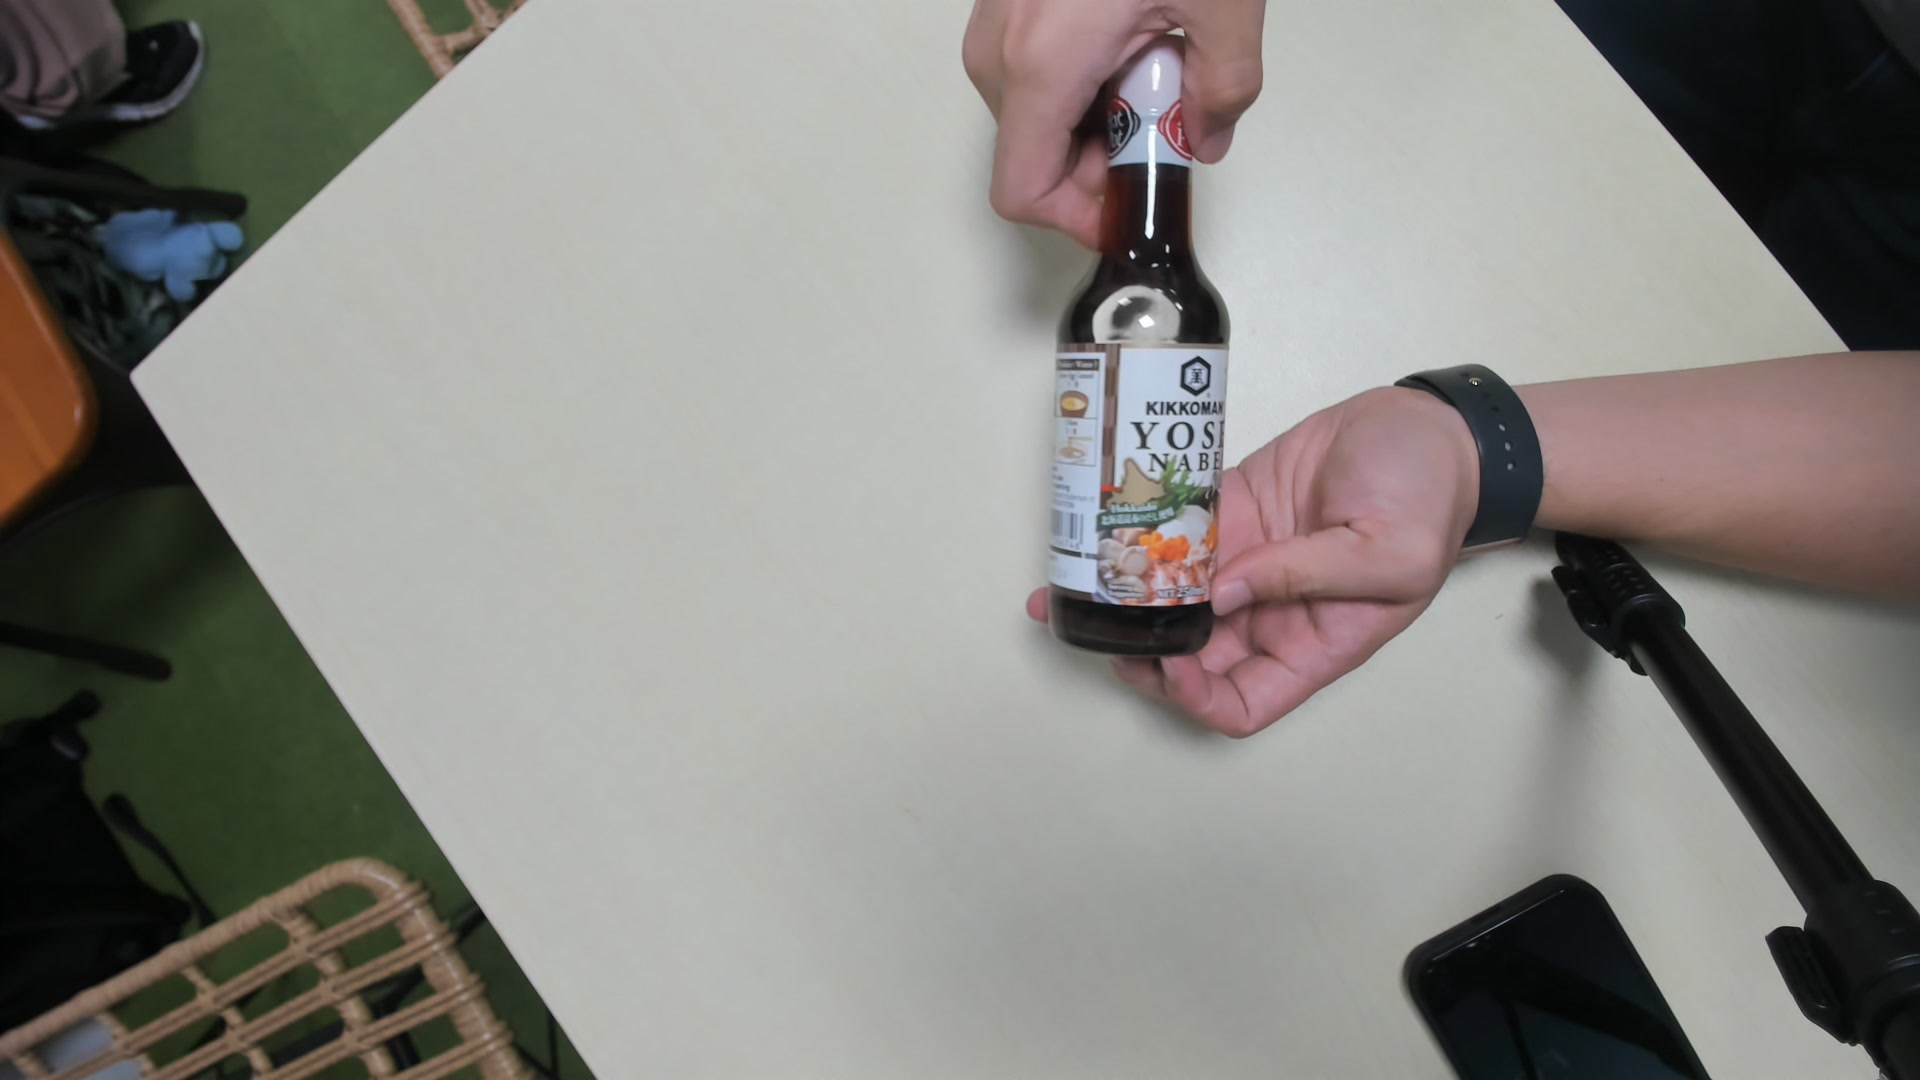OtherSauceDressing_200-299g_NonHalal_NonHealthy: (1046, 18, 1228, 655)
